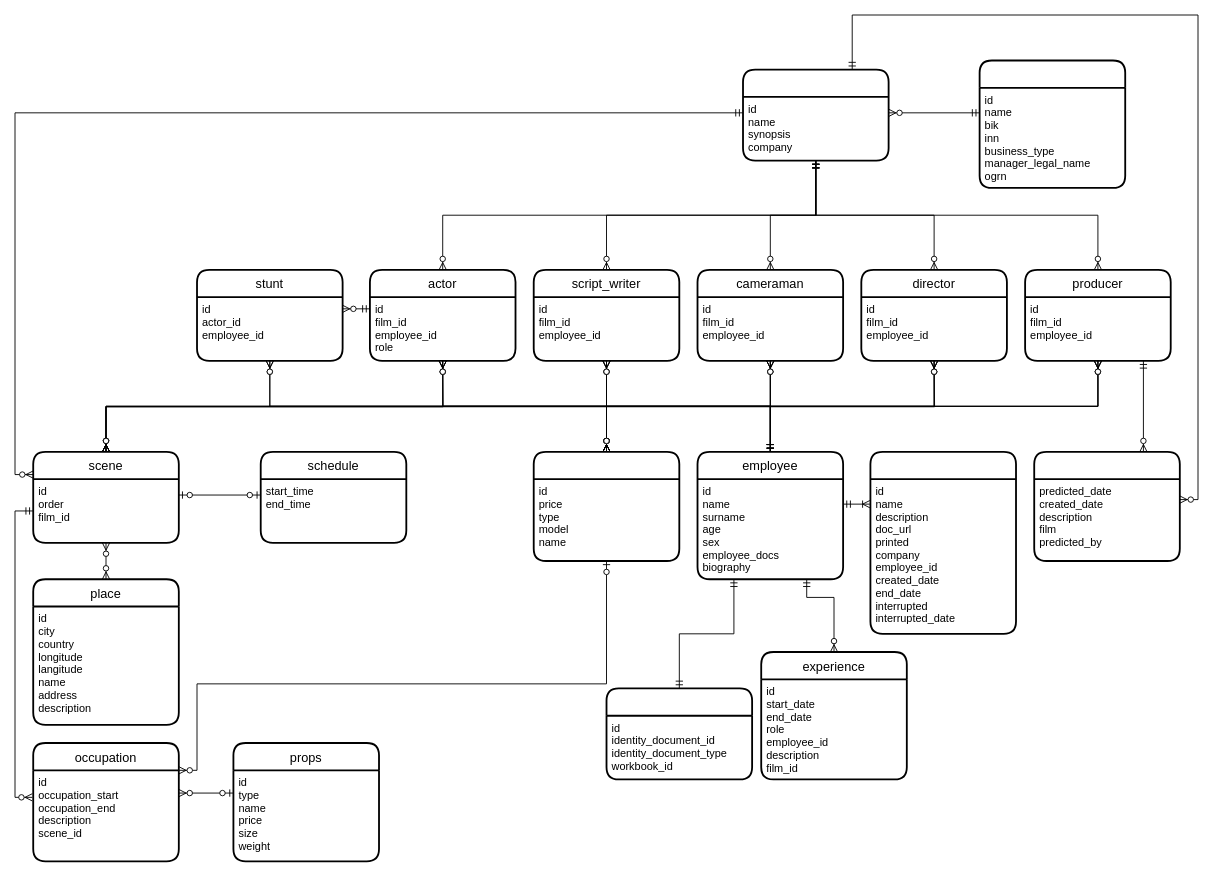
Image size: 1213x876. Some labels were removed from this diagram. The box of each missing label's shape, as (x1, y1, x2, y2) in pixels:
company: (978, 59, 1126, 188)
contract: (869, 450, 1016, 634)
employee_docs: (605, 687, 753, 780)
equipment: (532, 450, 680, 561)
film: (742, 68, 889, 161)
prediction: (1033, 450, 1180, 561)
